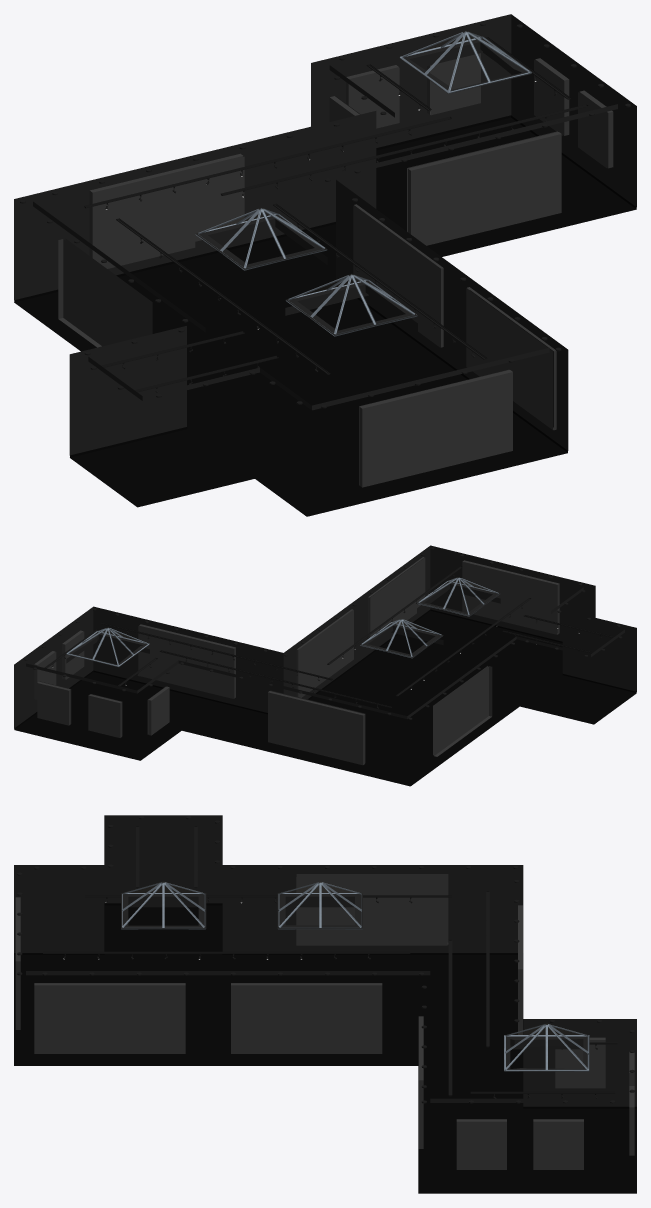
File: gallery5.glb
3 views of the same model, one above another, from view 1: azimuth 30°, elevation 25°; view 2: azimuth 150°, elevation 25°; view 3: azimuth 270°, elevation 25° (orthographic). The views are drawn at different scales.
Parts seen in each view (by area): view 1: ceiling_7, Floor_5, EX_ART_1, EX_ART_4, EX_PANEL_10, Light02_2, EX_ART_11, EX_PANEL_2, EX_PANEL_3, frame_4, EX_PANEL_7, EX_PANEL_8 (+4 smaller); view 2: Floor_5, ceiling_7, EX_ART_10, EX_PANEL_4, EX_PANEL_1, EX_ART_11, Light02_2, EX_PANEL_3, EX_PANEL_2, frame_4, EX_ART_7, EX_ART_8 (+6 smaller); view 3: Floor_5, ceiling_7, EX_ART_2, EX_ART_3, EX_PANEL_11, Light02_2, frame_4, EX_ART_6, EX_ART_5, EX_PANEL_9, Light_01_1, EX_ART_4 (+4 smaller).
Part boxes in pixels (box(x1,y1,x2,y2)): ceiling_7: box(14, 14, 636, 514); Floor_5: box(14, 117, 636, 516); EX_ART_1: box(359, 370, 512, 487); EX_ART_4: box(408, 132, 561, 245); EX_PANEL_10: box(93, 156, 244, 268); Light02_2: box(84, 37, 588, 392); EX_ART_11: box(58, 239, 150, 347); EX_PANEL_2: box(466, 288, 553, 429); EX_PANEL_3: box(353, 205, 440, 347); frame_4: box(195, 31, 531, 336); EX_PANEL_7: box(430, 53, 480, 115); EX_PANEL_8: box(349, 67, 399, 128); Floor_5: box(14, 611, 636, 786); ceiling_7: box(14, 545, 636, 783); EX_ART_10: box(268, 691, 364, 765); EX_PANEL_4: box(138, 626, 233, 698); EX_PANEL_1: box(462, 562, 557, 634); EX_ART_11: box(434, 666, 492, 756); Light02_2: box(44, 566, 614, 708); EX_PANEL_3: box(298, 610, 353, 697); EX_PANEL_2: box(370, 558, 425, 636); frame_4: box(66, 577, 499, 666); EX_ART_7: box(37, 681, 70, 725); EX_ART_8: box(88, 694, 121, 737); Floor_5: box(14, 905, 636, 1193); ceiling_7: box(14, 815, 636, 1191); EX_ART_2: box(34, 983, 185, 1053); EX_ART_3: box(231, 983, 382, 1053); EX_PANEL_11: box(296, 877, 447, 945); Light02_2: box(43, 826, 617, 1098); frame_4: box(121, 882, 589, 1071); EX_ART_6: box(533, 1119, 583, 1169); EX_ART_5: box(456, 1119, 506, 1169); EX_PANEL_9: box(555, 1040, 605, 1088); Light_01_1: box(17, 816, 634, 1103); EX_ART_4: box(418, 1016, 423, 1148).
Size of the model in its own units: 27.04 by 5.65 by 24.68.
8 materials, 1 textured.
